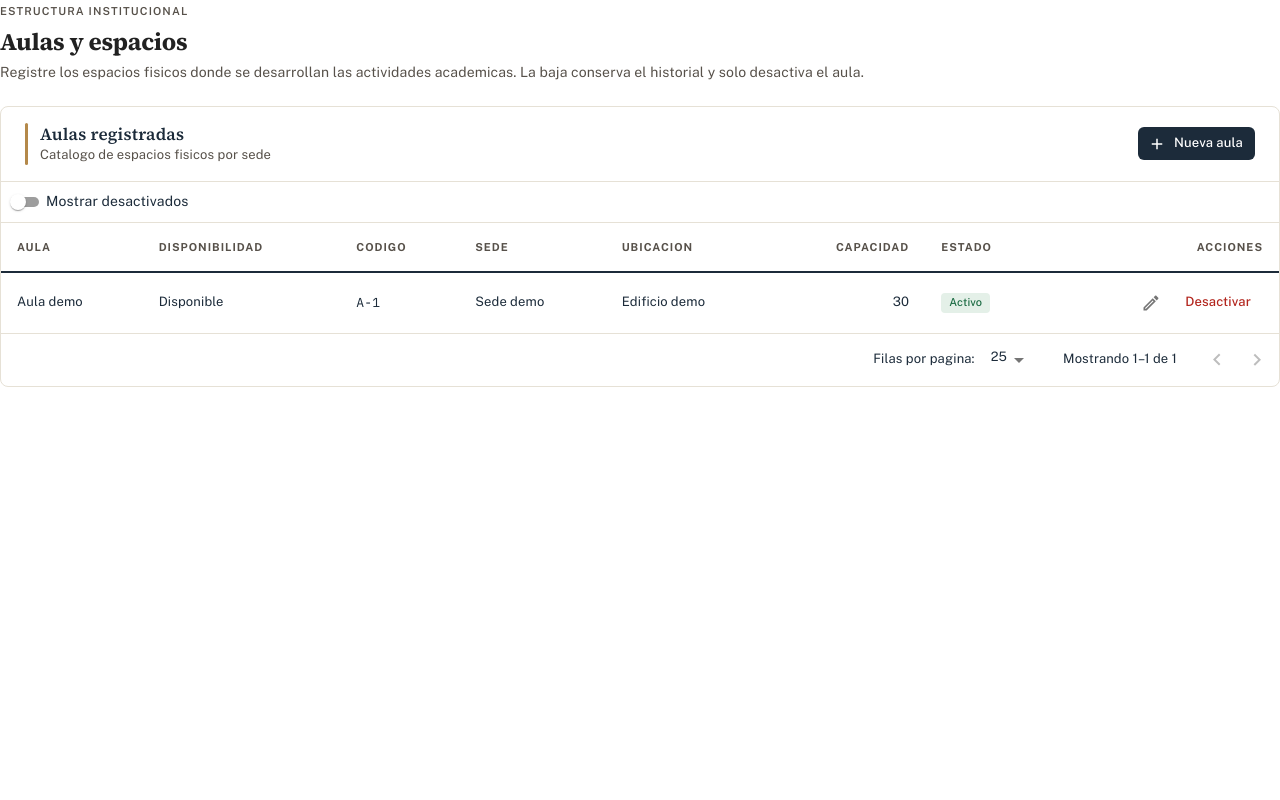
Test case: un error al guardar mantiene el formulario y el estado de la lista
Click the button named "Editar" at coordinates (1151, 303), box left=1133, top=285, right=1169, bottom=321
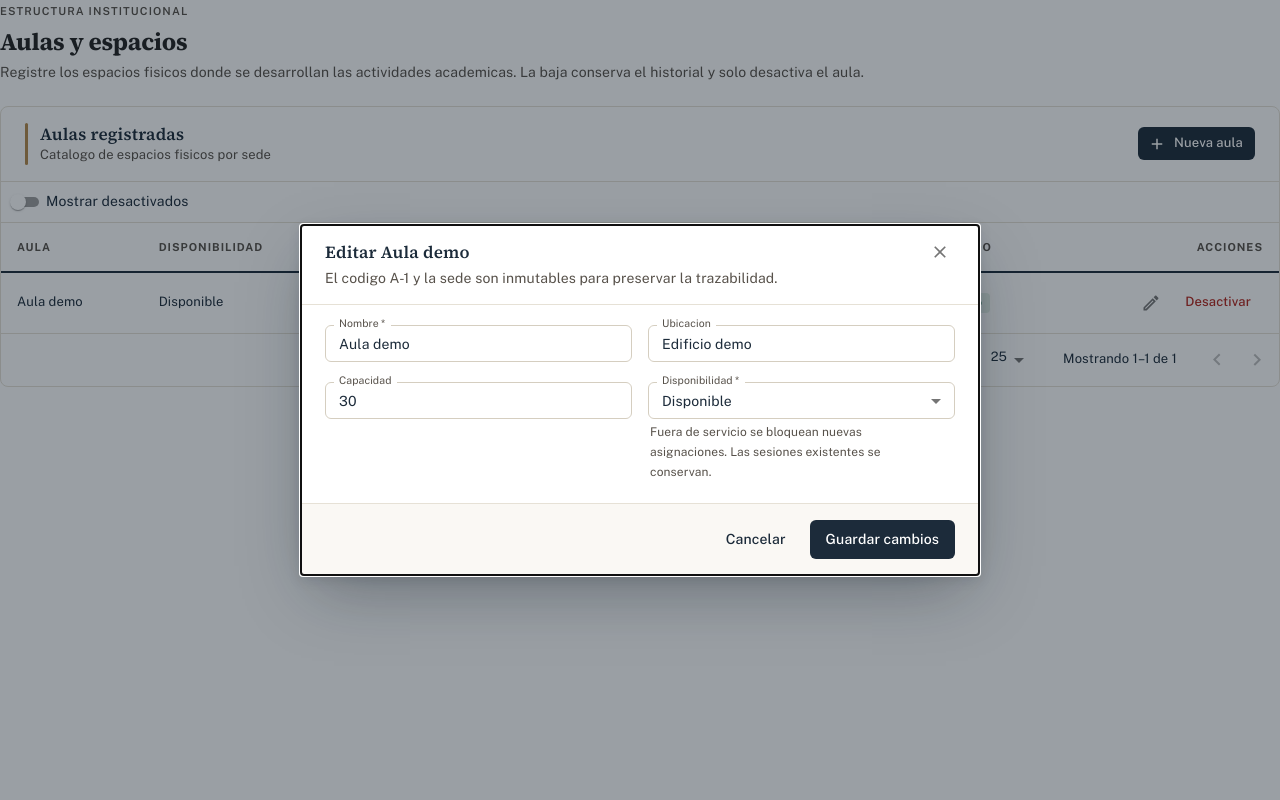
Click the dropdown named "Disponibilidad" at coordinates (697, 401), box left=662, top=393, right=732, bottom=409
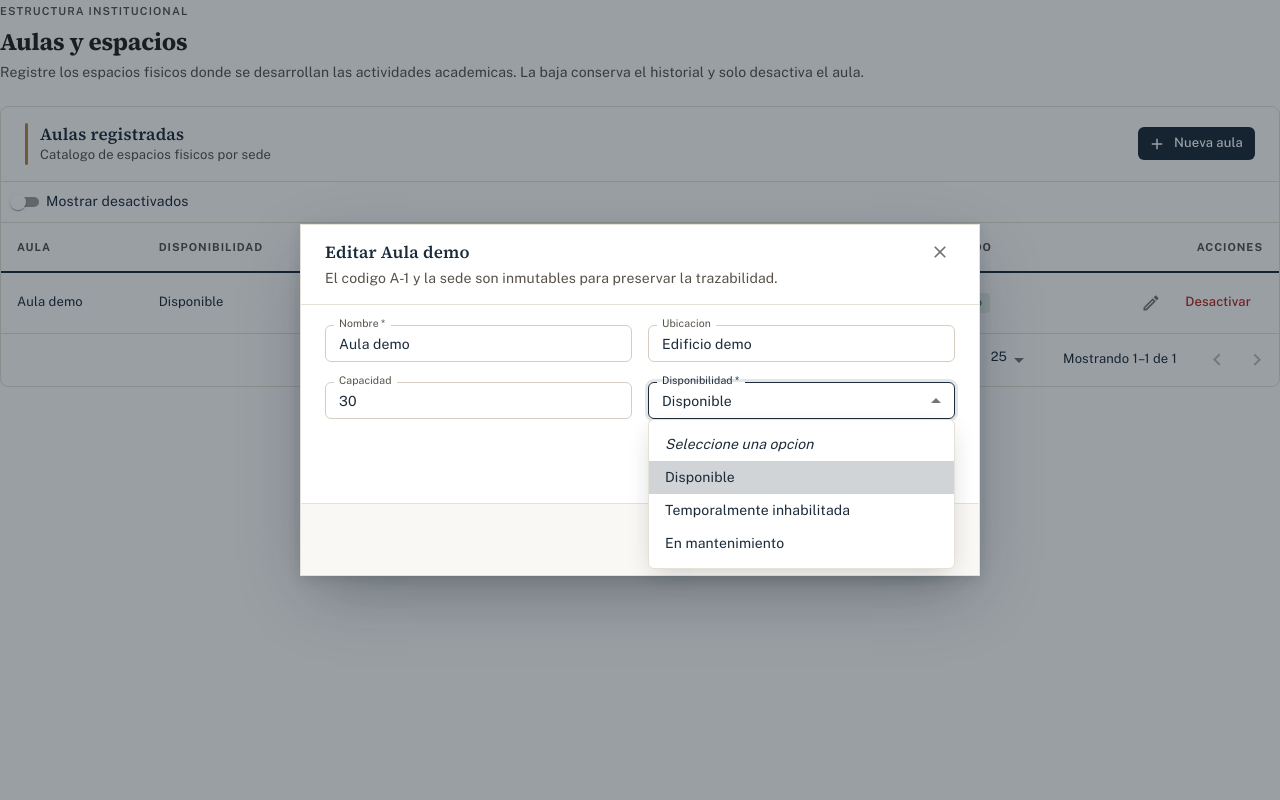
Click the option "Temporalmente inhabilitada" at coordinates (758, 510), box left=665, top=502, right=850, bottom=518
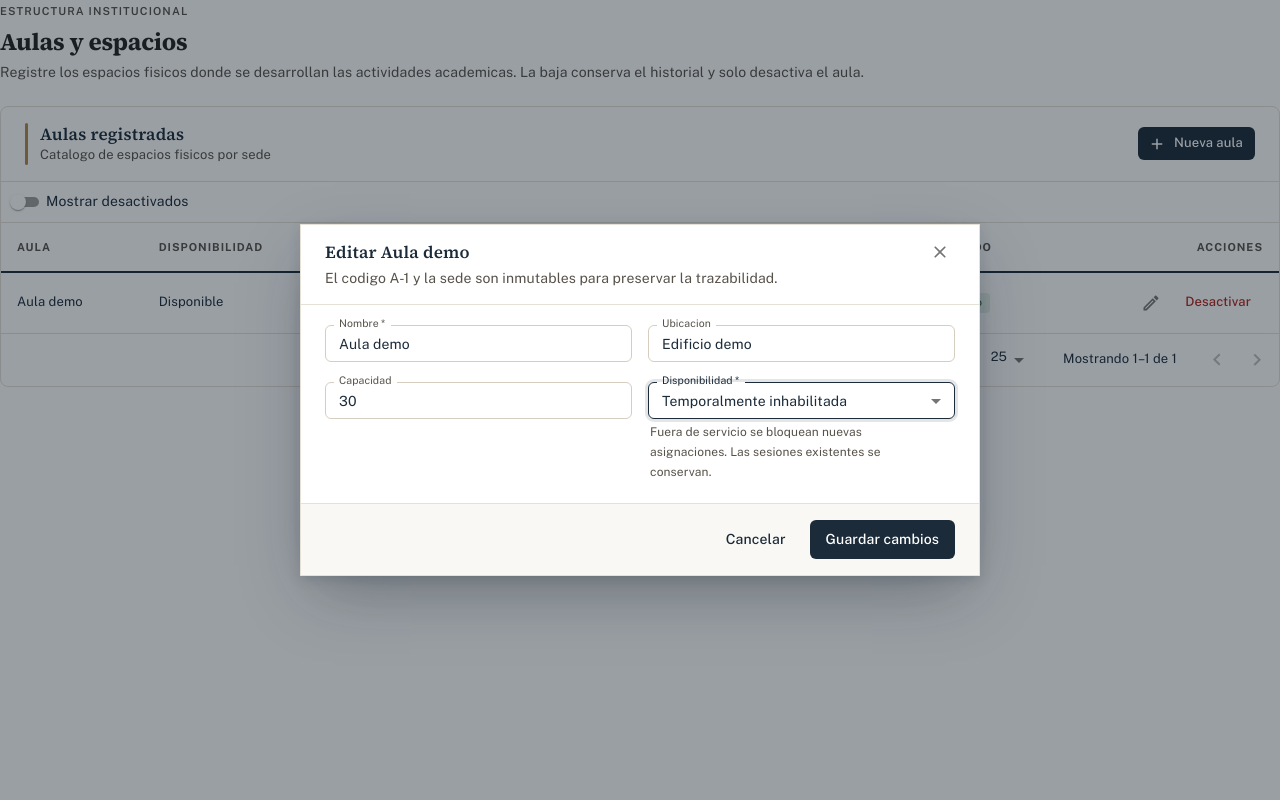
Click the button "Guardar cambios" at coordinates (882, 539), box left=810, top=520, right=955, bottom=559
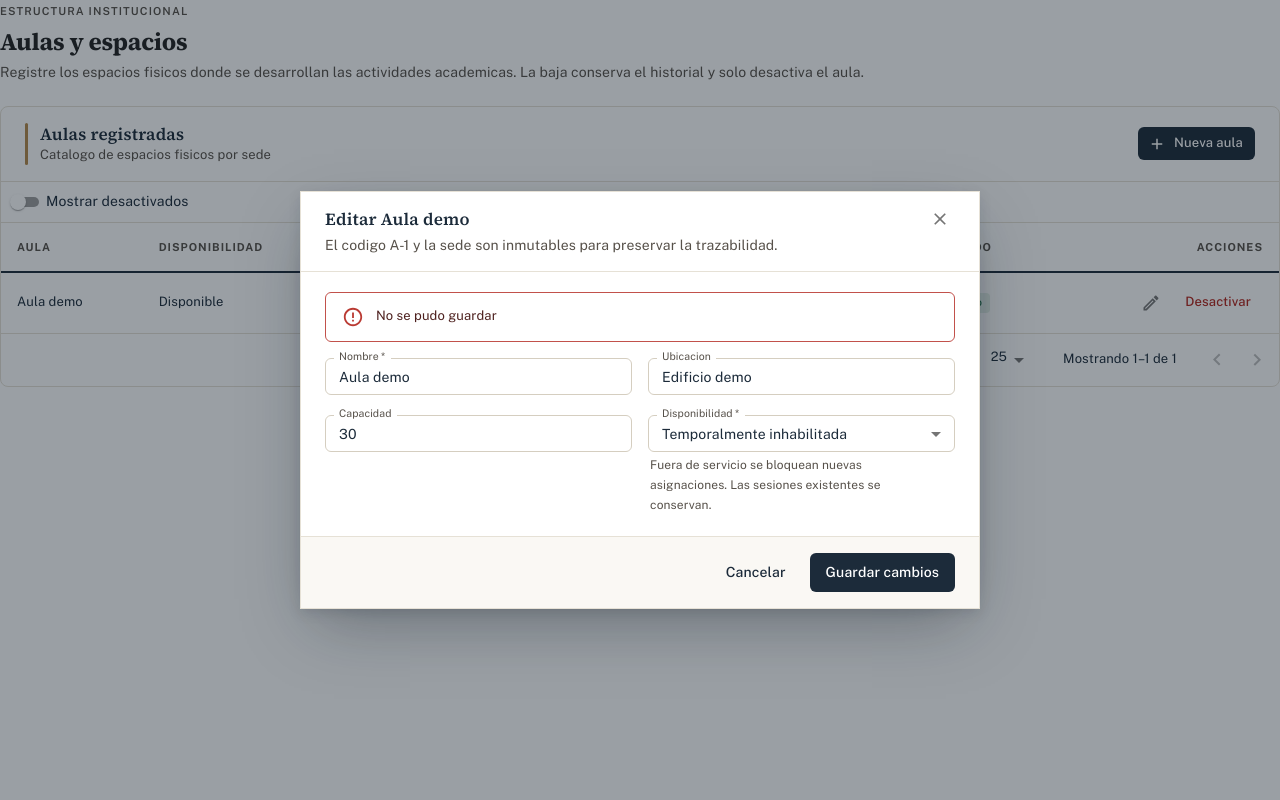
Expected: the text "Disponible" is shown, left=143, top=272, right=340, bottom=333
Result: the button "Guardar cambios" is shown at left=810, top=553, right=955, bottom=592
Result: the text "No se pudo guardar" is shown at left=376, top=308, right=497, bottom=323
